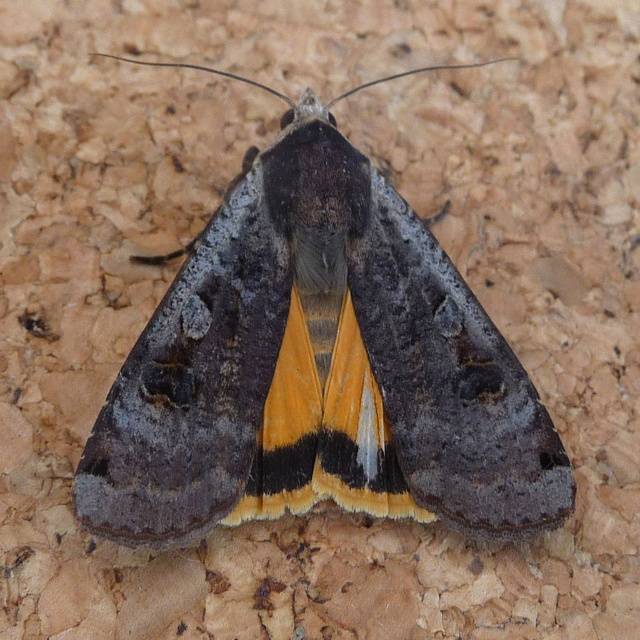Moths and butterflies: (68, 51, 581, 545)
